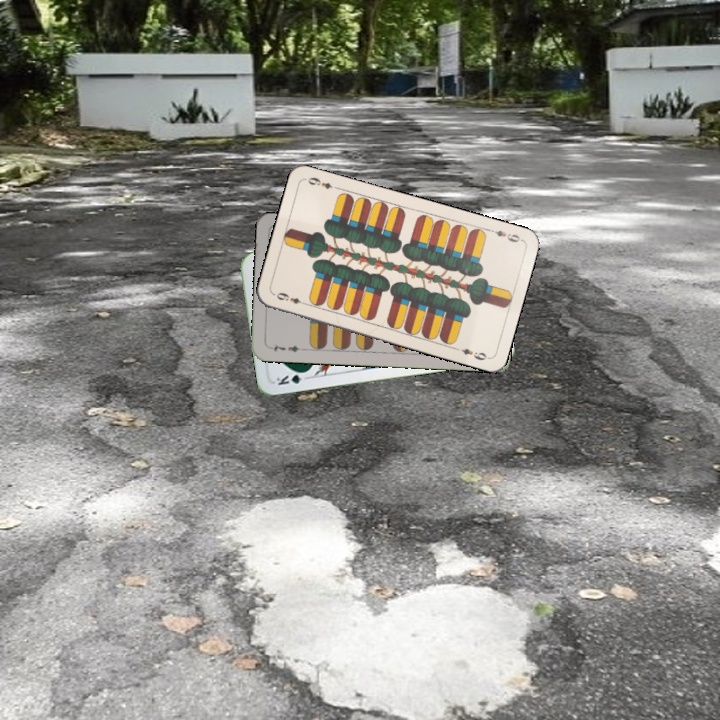E7: (265, 341, 306, 355)
E9: (485, 225, 524, 245), (272, 288, 310, 308)
GK: (272, 367, 312, 388)
